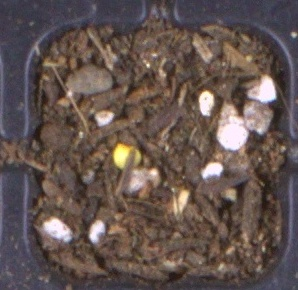chilli seed: (112, 142, 143, 170)
